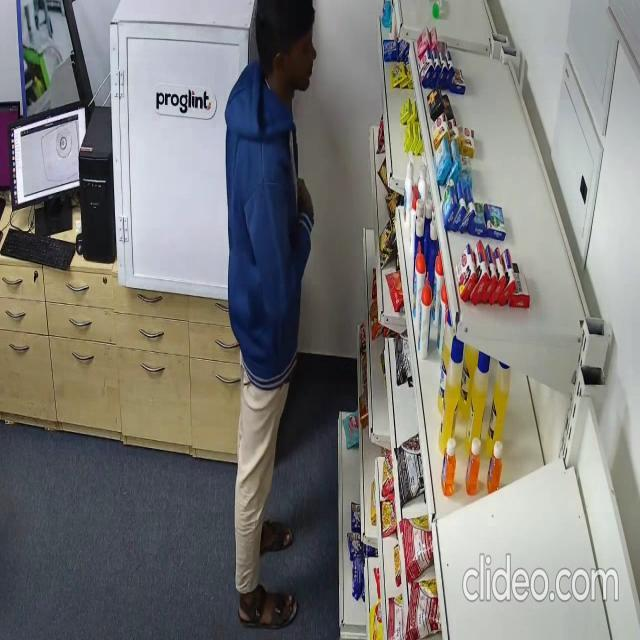Shoplifting: (219, 0, 320, 634)
